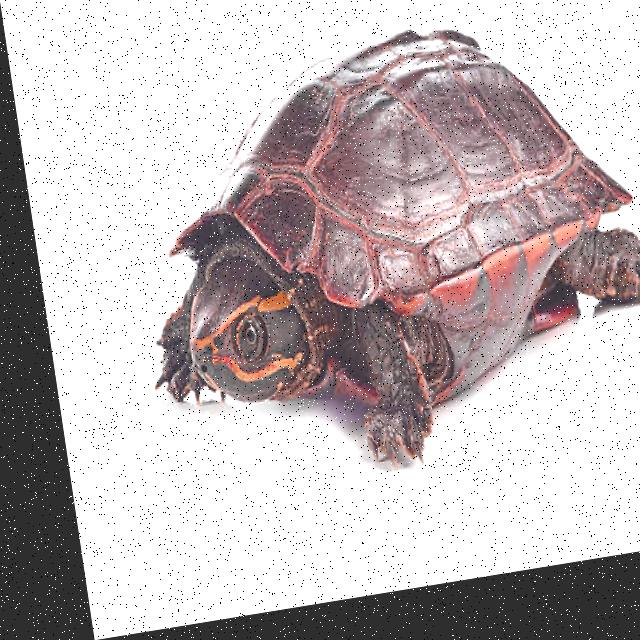terrapin: (65, 0, 640, 578), (300, 275, 462, 508), (168, 229, 335, 442), (491, 216, 640, 392)
